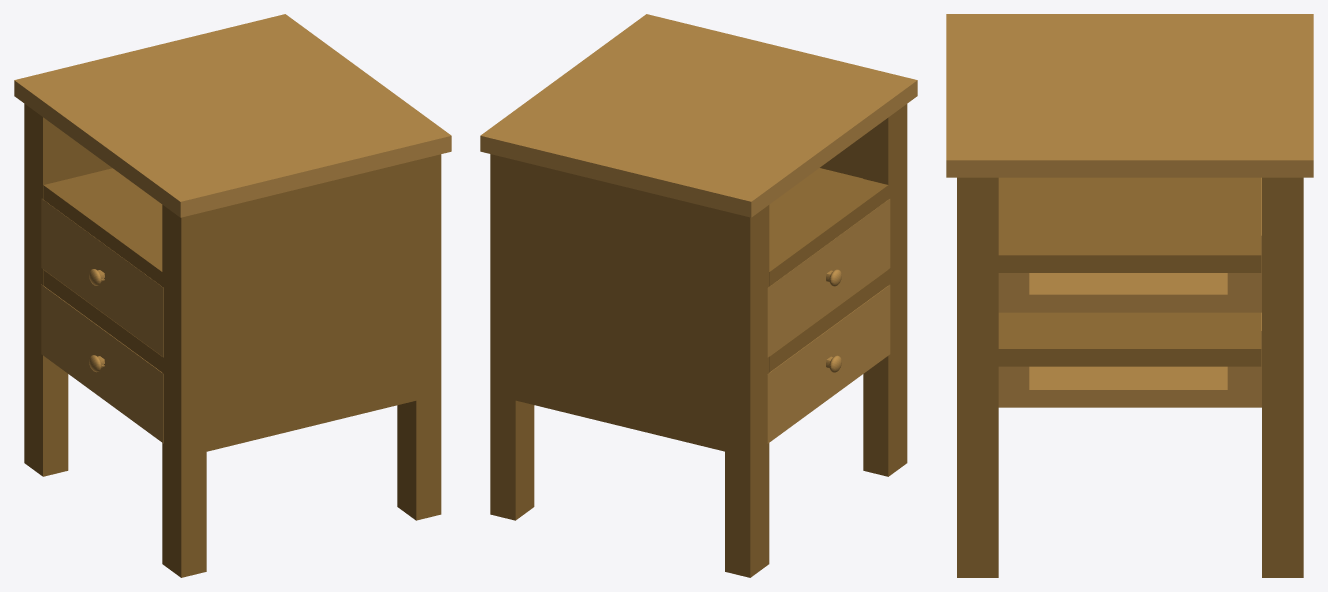
The model's file is Komodin.fbx.
The picture shows the model from 3 angles, left to right: view 1: azimuth 30°, elevation 25°; view 2: azimuth 150°, elevation 25°; view 3: azimuth 270°, elevation 25°; orthographic projection. The views are drawn at different scales.
Parts seen in each view (by area): view 1: Cube, Cube.002, Cube.001; view 2: Cube, Cube.002, Cube.001; view 3: Cube, Cube.002, Cube.001.
Boxes of the visible parts, box(x1,y1,x2,y2) form: Cube: box(14, 14, 451, 577); Cube.002: box(41, 284, 163, 443); Cube.001: box(41, 198, 163, 357); Cube: box(480, 14, 917, 577); Cube.002: box(767, 285, 890, 443); Cube.001: box(767, 199, 890, 357); Cube: box(946, 14, 1313, 577); Cube.002: box(998, 312, 1261, 407); Cube.001: box(998, 177, 1261, 312).
Bounding box in the file's own units: 286 × 376 × 297.
